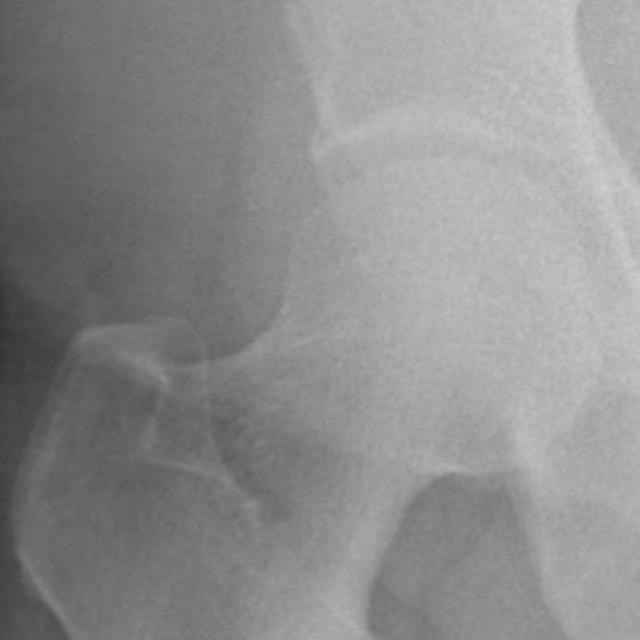Fitted_femural_head: (326, 155, 432, 326)
